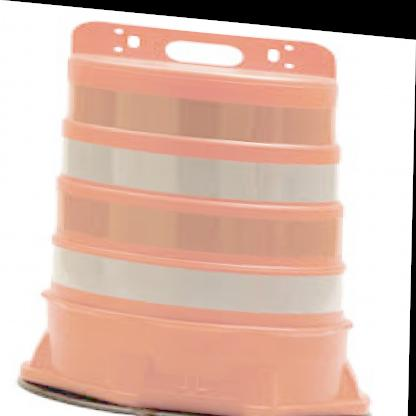obstacle: (46, 18, 375, 393)
